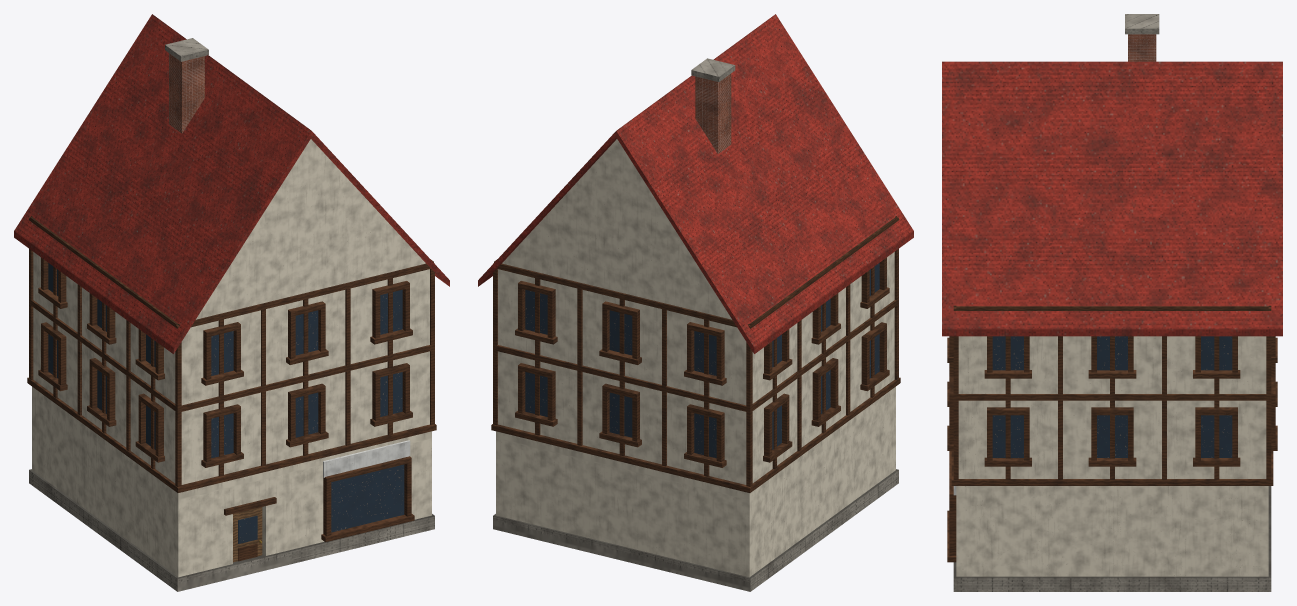
Rendered from Bld_Cottage_RedTall.fbx.
3 views of the same model, side by side, from view 1: azimuth 30°, elevation 25°; view 2: azimuth 150°, elevation 25°; view 3: azimuth 270°, elevation 25° (orthographic). The views are drawn at different scales.
Visible parts, largest first — view 1: Roof, Walls_Room, Windows_Upper, HalfTimber, ShopFront, Plinth, FloorBand, Chimney, Door_Cottage_RedTall; view 2: Roof, Walls_Room, Windows_Upper, HalfTimber, Plinth, FloorBand, Chimney; view 3: Roof, Walls_Room, Windows_Upper, HalfTimber, Plinth, FloorBand, Chimney, ShopFront.
Boxes of the visible parts, bbox=[...] form: Roof: bbox=[14, 14, 449, 353]; Walls_Room: bbox=[32, 252, 431, 577]; Windows_Upper: bbox=[38, 257, 412, 467]; HalfTimber: bbox=[29, 216, 434, 486]; ShopFront: bbox=[224, 440, 414, 542]; Plinth: bbox=[29, 469, 434, 591]; FloorBand: bbox=[27, 377, 436, 492]; Chimney: bbox=[165, 38, 208, 133]; Door_Cottage_RedTall: bbox=[233, 507, 262, 562]; Roof: bbox=[478, 14, 913, 353]; Walls_Room: bbox=[496, 252, 895, 577]; Windows_Upper: bbox=[515, 257, 889, 467]; HalfTimber: bbox=[493, 216, 898, 486]; Plinth: bbox=[493, 469, 898, 591]; FloorBand: bbox=[491, 377, 900, 492]; Chimney: bbox=[691, 58, 735, 153]; Roof: bbox=[942, 61, 1282, 336]; Walls_Room: bbox=[956, 336, 1268, 576]; Windows_Upper: bbox=[947, 336, 1277, 466]; HalfTimber: bbox=[953, 305, 1271, 479]; Plinth: bbox=[953, 486, 1271, 591]; FloorBand: bbox=[951, 451, 1273, 485]; Chimney: bbox=[1125, 14, 1159, 61]; ShopFront: bbox=[947, 451, 956, 562].
Size of the model in its own units: 10.9 by 17.2 by 10.9.
